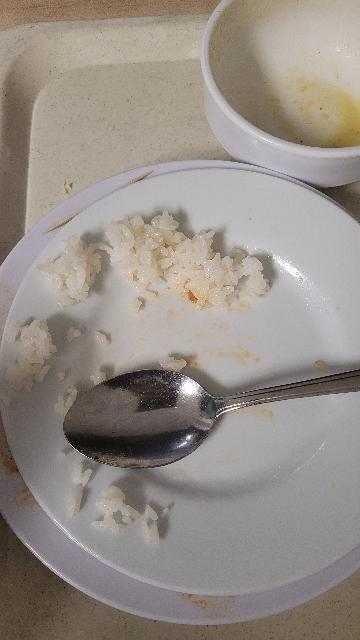Metal: (70, 375, 360, 470)
Organik: (40, 216, 274, 343), (57, 456, 169, 554)
